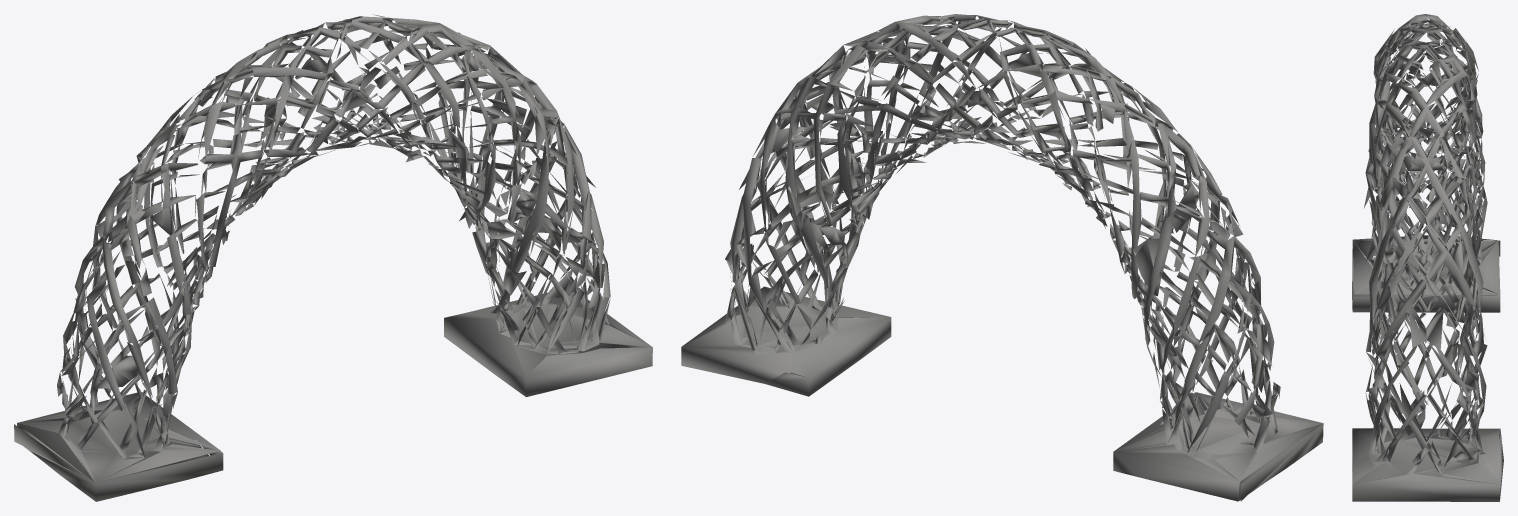
File: art4.glb
The picture shows the model from 3 angles, left to right: view 1: azimuth 30°, elevation 25°; view 2: azimuth 150°, elevation 25°; view 3: azimuth 270°, elevation 25°; orthographic projection. The views are drawn at different scales.
Parts seen in each view (by area): view 1: LO.001; view 2: LO.001; view 3: LO.001.
Boxes of the visible parts, <box> form: LO.001: <box>14,14,652,501</box>; LO.001: <box>681,14,1323,501</box>; LO.001: <box>1352,14,1503,501</box>.
Bounding box in the file's own units: 1.9 × 1.24 × 0.4978.
1 material, 1 textured.
